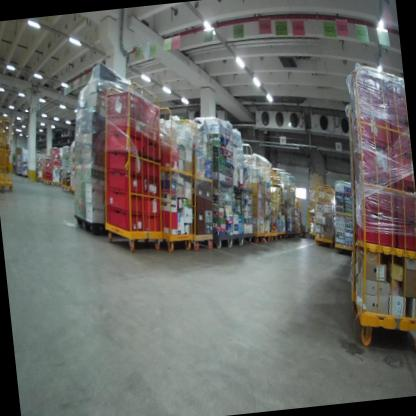small_load_carrier: (102, 181, 145, 219), (102, 164, 147, 200), (103, 148, 144, 184), (102, 86, 143, 121), (105, 202, 145, 236), (102, 128, 144, 159), (104, 112, 144, 143), (139, 189, 163, 218), (141, 154, 163, 185), (142, 102, 164, 130), (143, 211, 165, 234), (143, 135, 159, 161)
